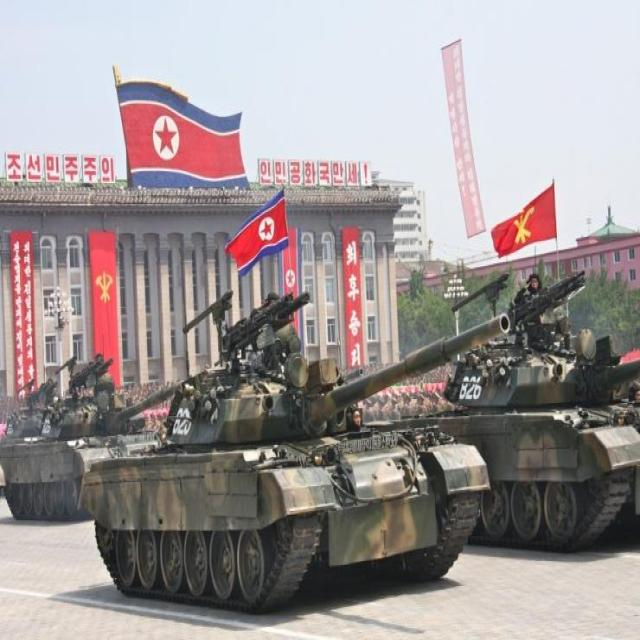north tank: (90, 290, 503, 600), (376, 276, 640, 552), (0, 271, 178, 530)
